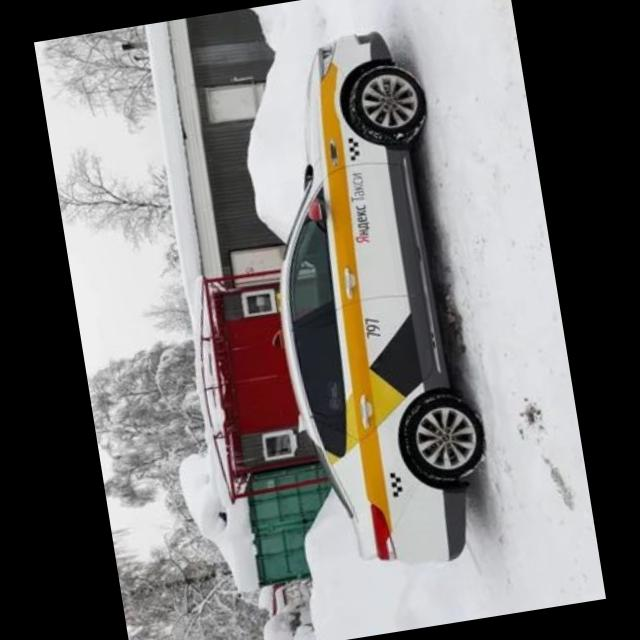taxi: (235, 25, 505, 584)
